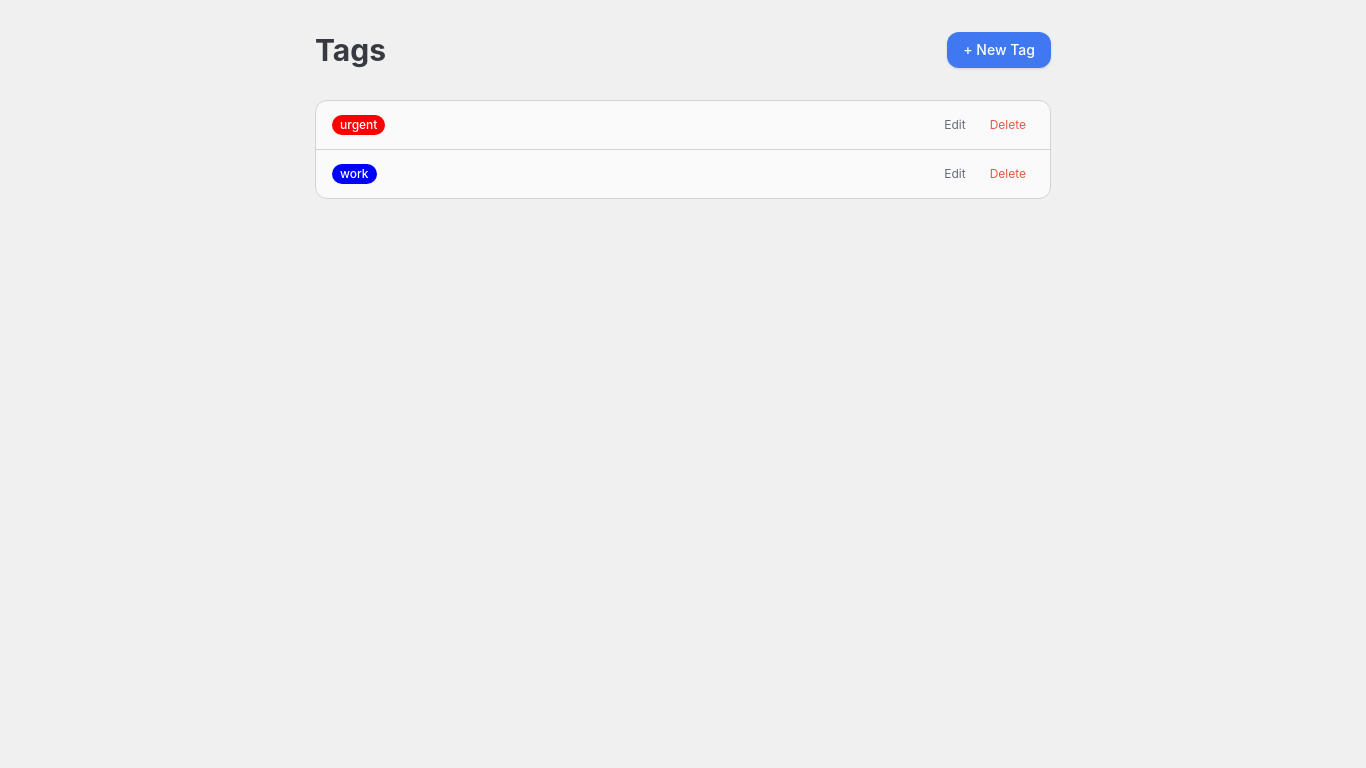
Test: TagsPage › create tag › keeps the modal open and shows an error when the API rejects
Expected: the text "urgent" is shown, [332,115,385,135]
Click the button "+ New Tag" at coordinates (999, 50), box [947,32,1051,68]
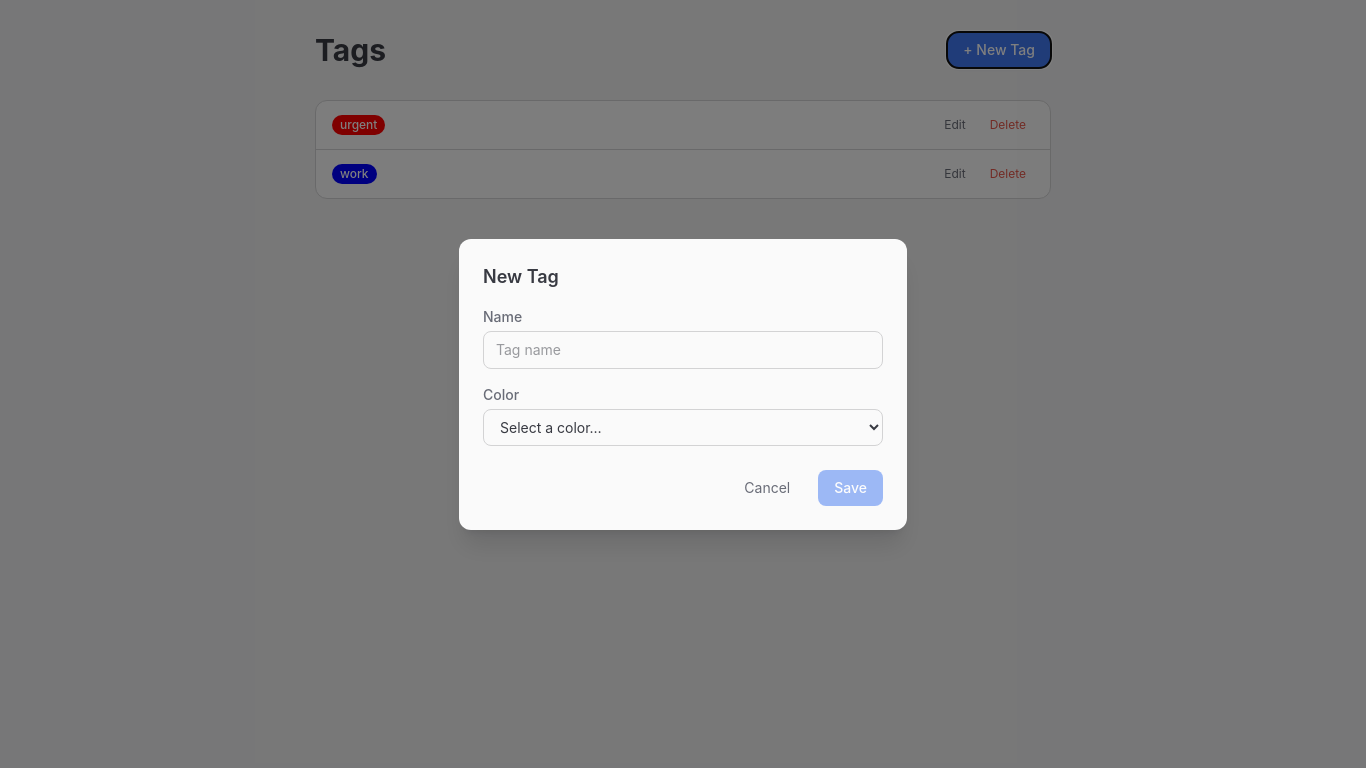
Type "duplicate" into the field with placeholder "Tag name" at coordinates (683, 350), box [483,330,883,368]
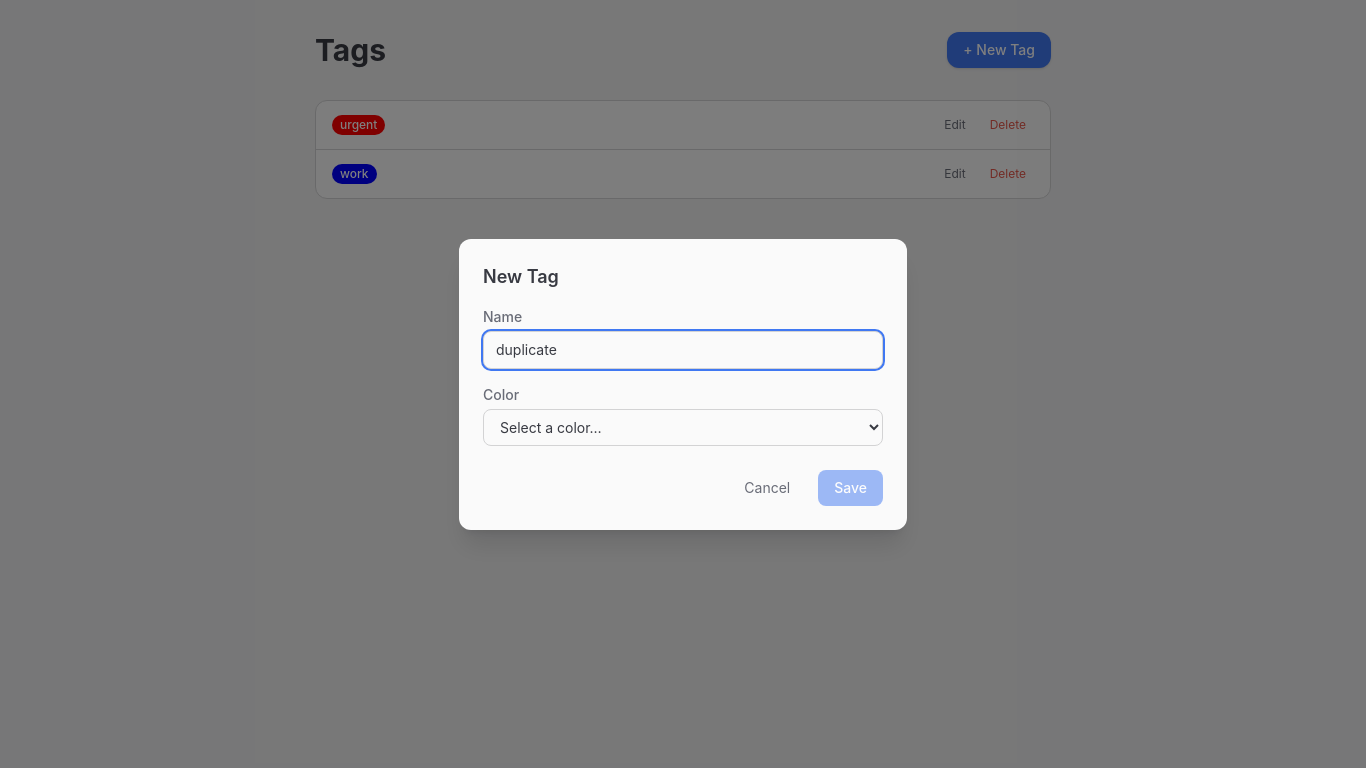
Select "Red (#FF0000)" in the dropdown at coordinates (683, 427), box [483,408,883,446]
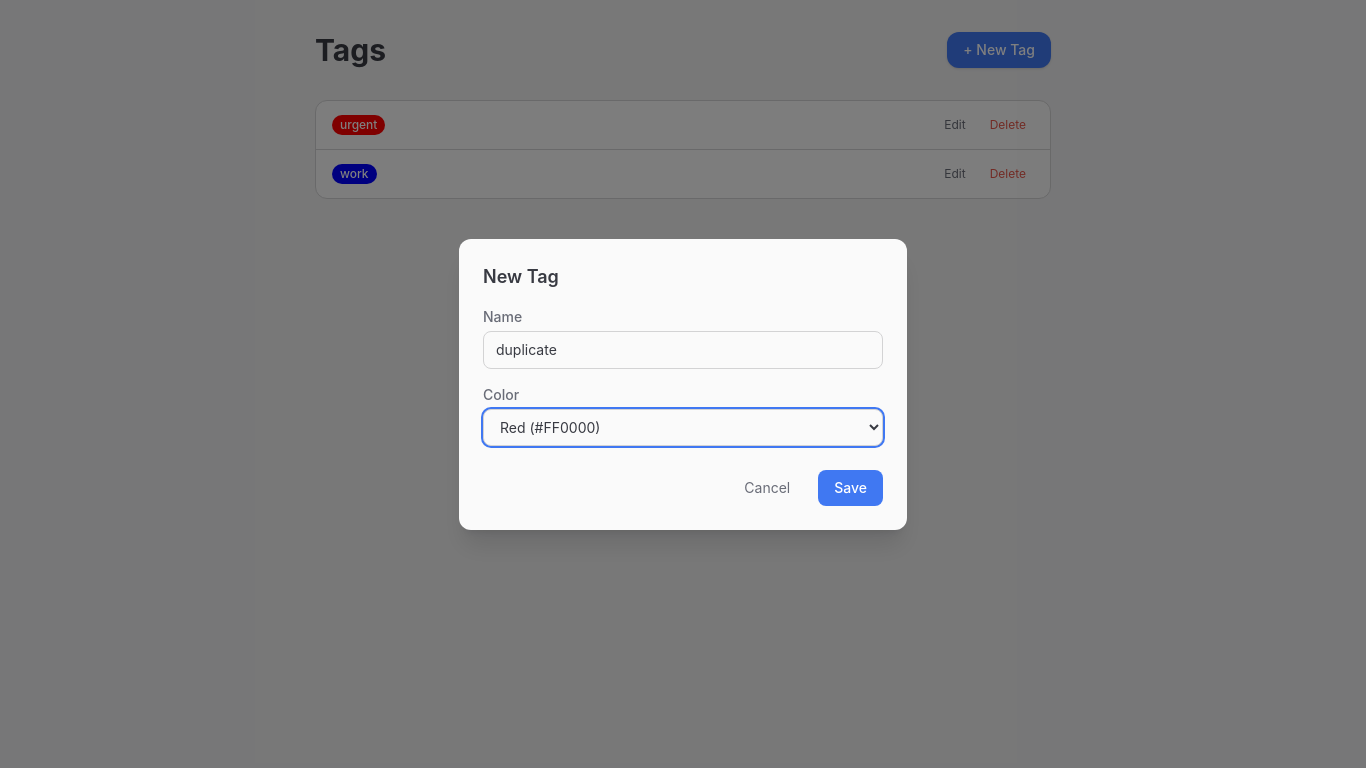
Click the button "Save" at coordinates (851, 488), box [818,470,883,506]
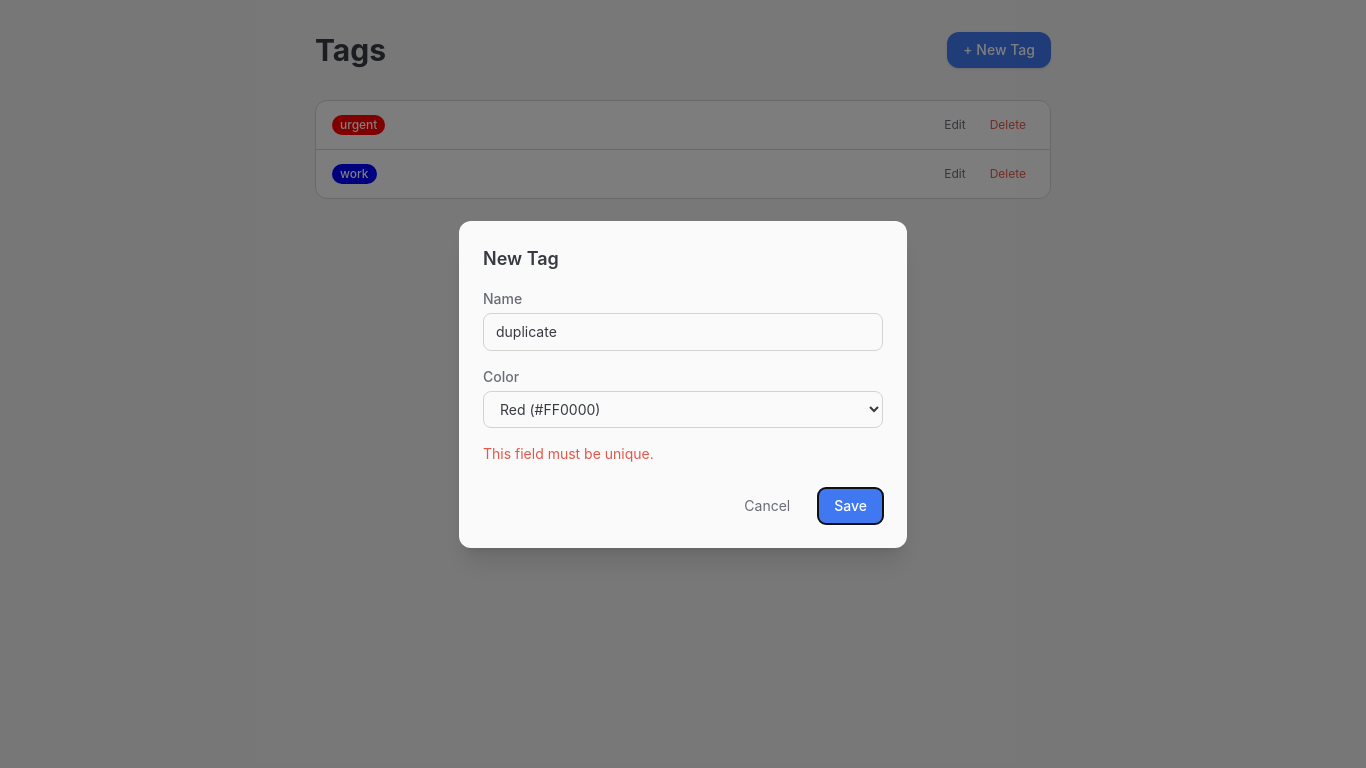
Now the heading "New Tag" is shown, box [483,248,559,268]
Now the text "This field must be unique." is shown, box [483,444,654,462]
